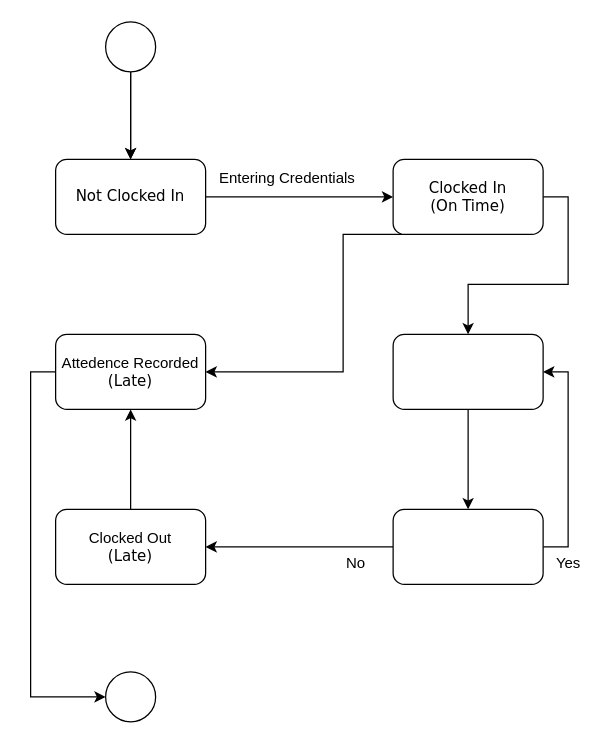
Some shapes in this 615 by 744 pixel diagram are drawn without their labels. Each missing label, with the centre of its shape:
"Attedence Recorded (On Time)" belongs at point 467,371.
"Clocked Out (On Time)" belongs at point 467,546.
